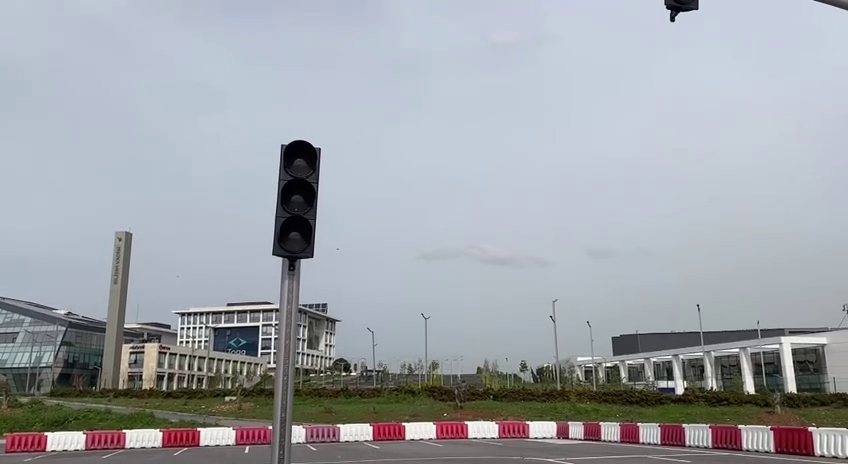trafficLight: (268, 133, 326, 266)
